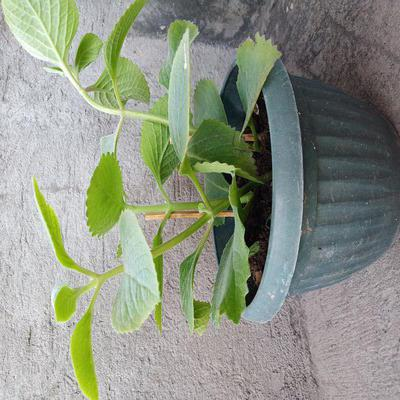Oregano: (9, 12, 256, 349)
